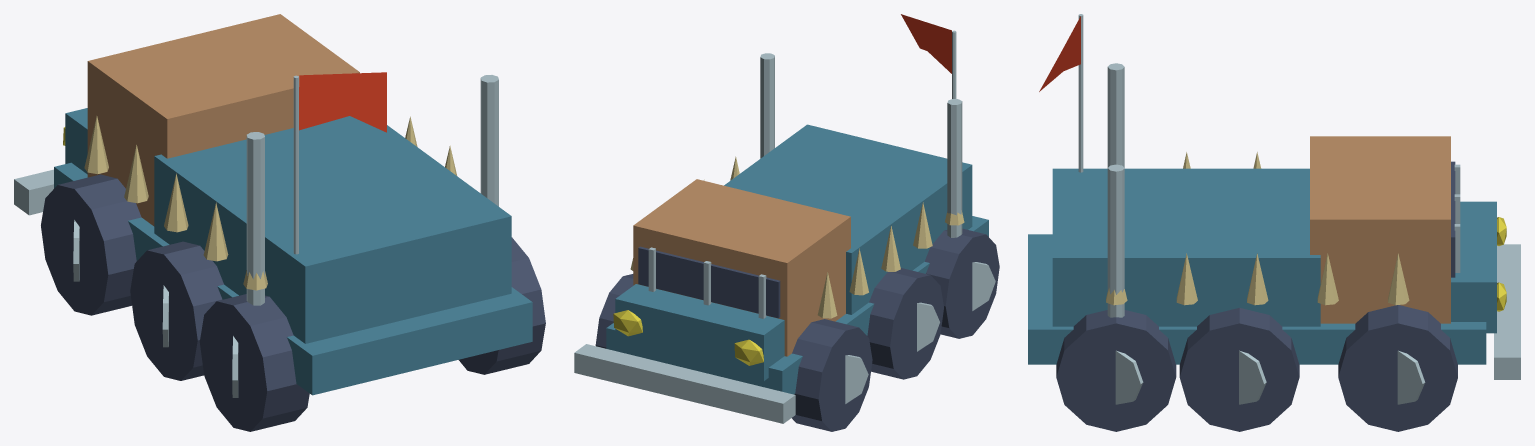
File: escort.glb
The picture shows the model from 3 angles, left to right: view 1: azimuth 30°, elevation 25°; view 2: azimuth 150°, elevation 25°; view 3: azimuth 270°, elevation 25°; orthographic projection. The views are drawn at different scales.
Visible parts, largest first — view 1: Chassis, Wheel0, Wheel2, Wheel1, Wheel3; view 2: Chassis, Wheel2, Wheel1, Wheel0, Wheel5, Wheel6, Wheel8, Wheel7; view 3: Chassis, Wheel5, Wheel4, Wheel3, Wheel9, Wheel11, Wheel10.
Part boxes in pixels (x1,y1,x2,y2): Chassis: (14,14,532,395); Wheel0: (199,294,309,431); Wheel2: (41,174,141,315); Wheel1: (130,241,223,380); Wheel3: (459,237,545,374); Chassis: (574,14,988,423); Wheel2: (792,319,872,431); Wheel1: (867,268,943,379); Wheel0: (924,228,999,338); Wheel5: (595,274,633,348); Wheel6: (972,262,995,310); Wheel8: (845,355,868,403); Wheel7: (917,302,939,351); Chassis: (1028,14,1520,379); Wheel5: (1338,305,1457,431); Wheel4: (1179,307,1299,431); Wheel3: (1056,310,1176,431); Wheel9: (1115,350,1143,404); Wheel11: (1397,350,1425,404); Wheel10: (1239,350,1266,404).
Bounding box in the file's own units: 4.49 × 4.94 × 6.99.
